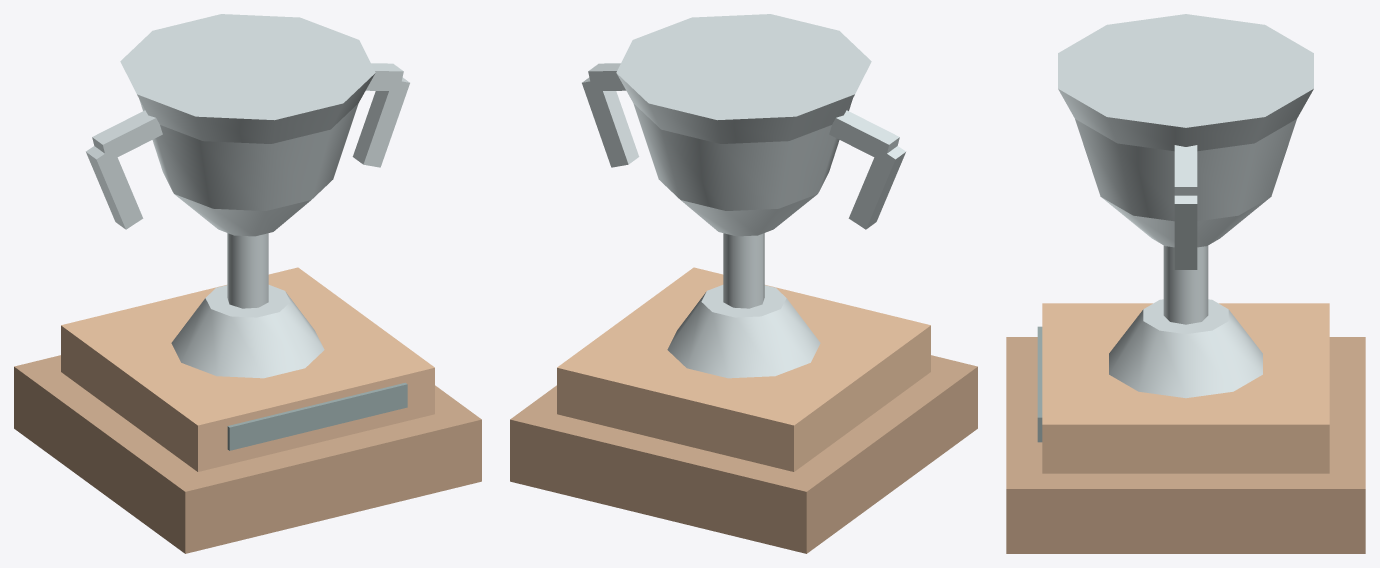
File: trophyCup.glb
3 renders of one model, left to right at view 1: azimuth 30°, elevation 25°; view 2: azimuth 150°, elevation 25°; view 3: azimuth 270°, elevation 25°, orthographic. The views are drawn at different scales.
Visible parts, largest first — view 1: trophyCup; view 2: trophyCup; view 3: trophyCup.
Part boxes in pixels (x1,y1,x2,y2): trophyCup: (14, 14, 481, 553); trophyCup: (510, 14, 977, 553); trophyCup: (1006, 14, 1365, 553).
Bounding box in the file's own units: 0.2116 × 0.25 × 0.2.
